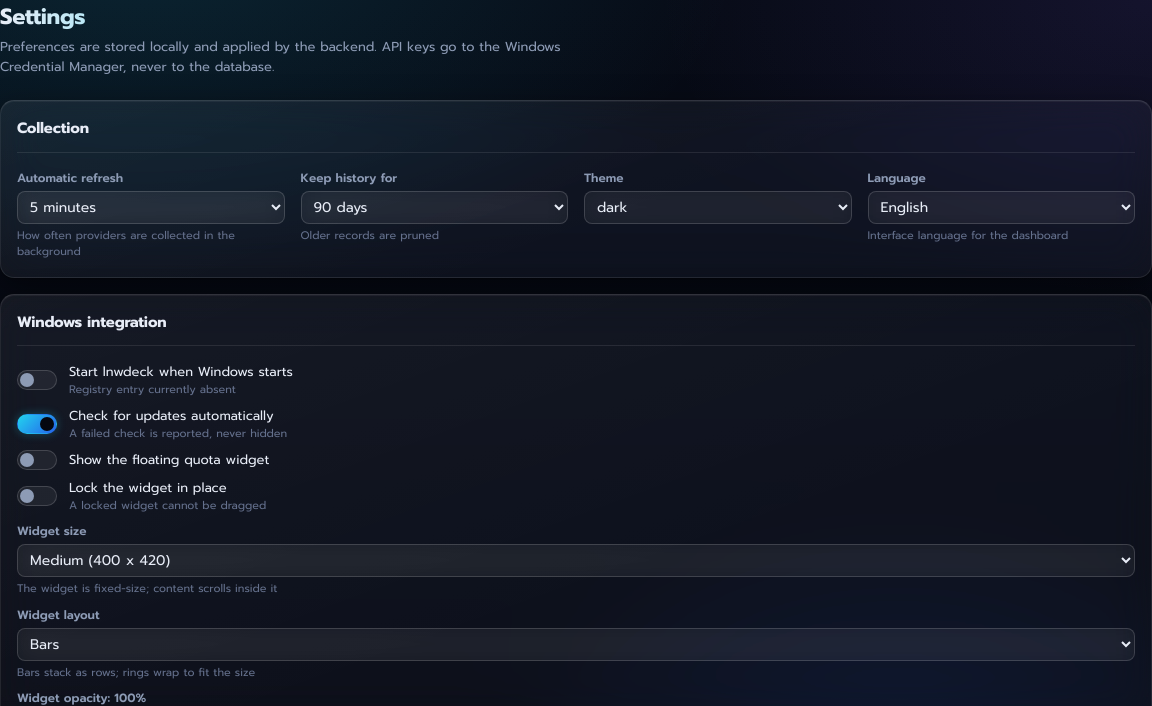
SettingsPage › shows a rejected save and keeps the previous stored value
Select "15 minutes" in the dropdown labelled "Automatic refresh" at (151, 207), box top-left (17, 190), bottom-right (284, 224)
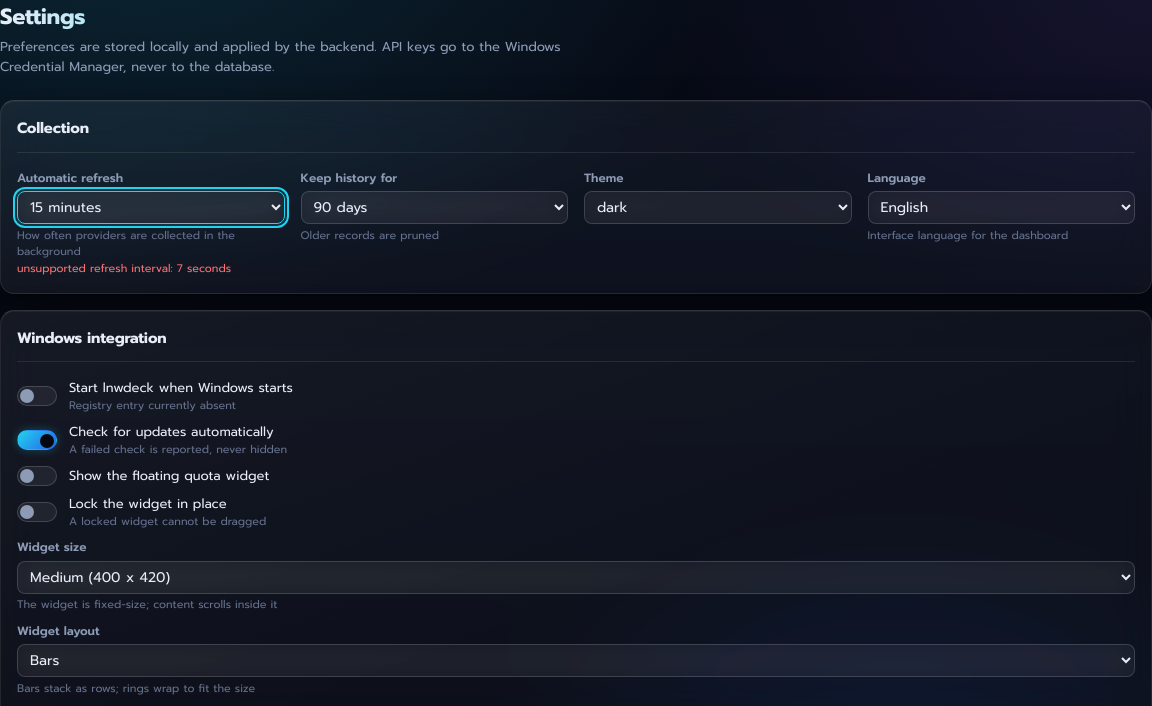
Result: the text "unsupported refresh interval: 7 seconds" is shown at top-left (17, 260), bottom-right (231, 276)
